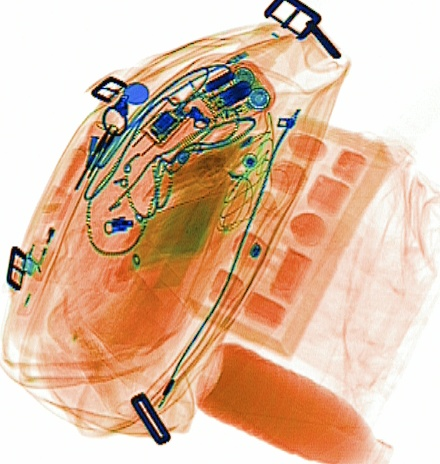lighter: (15, 184, 73, 283)
